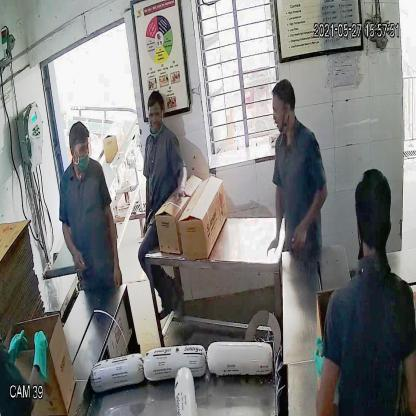no_goggles: (144, 106, 168, 125), (70, 140, 92, 160)
